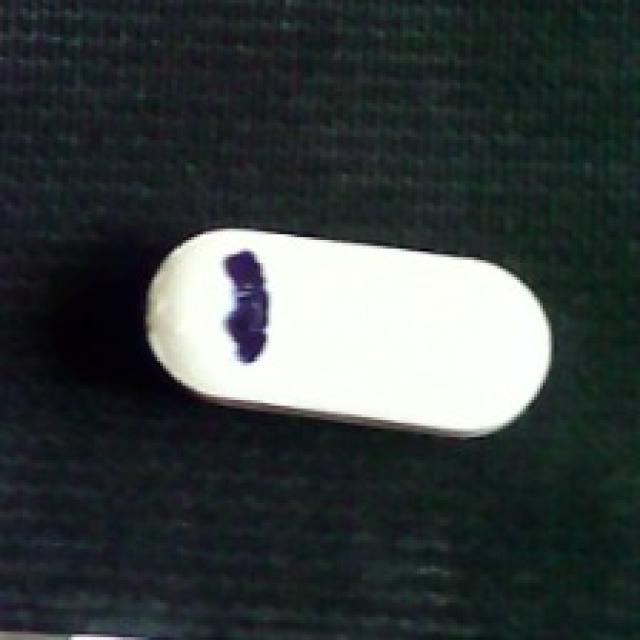defected: (131, 229, 560, 437)
